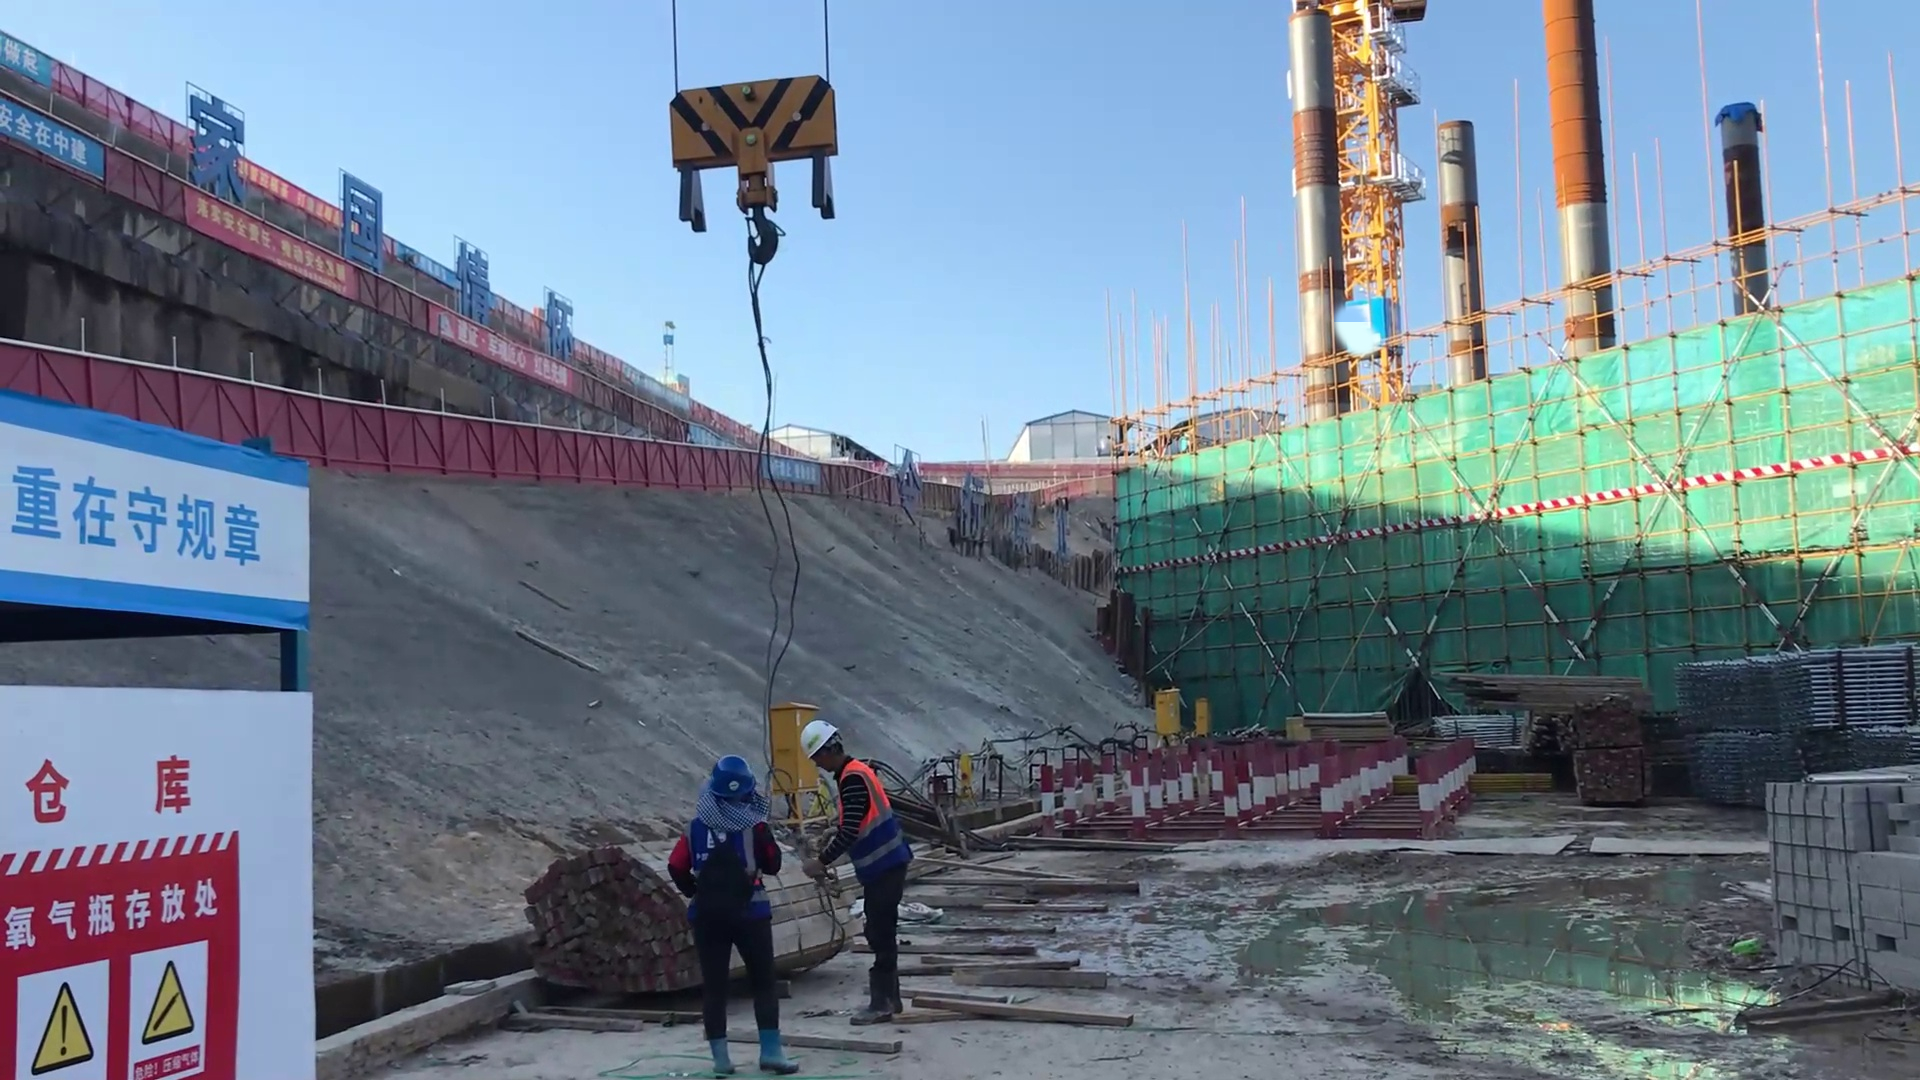brick: (1752, 757, 1920, 981)
ebox: (764, 697, 829, 804), (1152, 687, 1177, 738), (1192, 693, 1214, 737)
fence: (300, 393, 570, 479), (571, 434, 762, 485)
helmet: (705, 761, 763, 821), (803, 720, 843, 769)
hook: (684, 71, 845, 230)
person: (668, 754, 809, 1060), (794, 727, 926, 1027)
scaffold: (1675, 630, 1920, 728)
slogan: (1, 433, 271, 596), (151, 179, 378, 338), (1, 108, 100, 192)
vest: (830, 767, 887, 838)
wood: (508, 841, 671, 1016), (1448, 656, 1622, 722)
